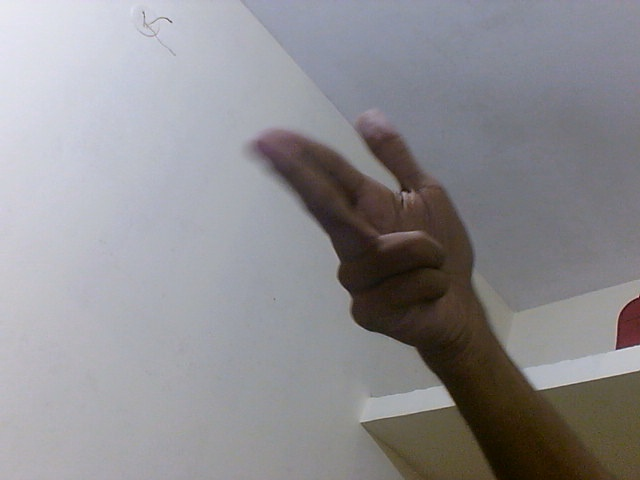hand: (248, 107, 486, 355)
